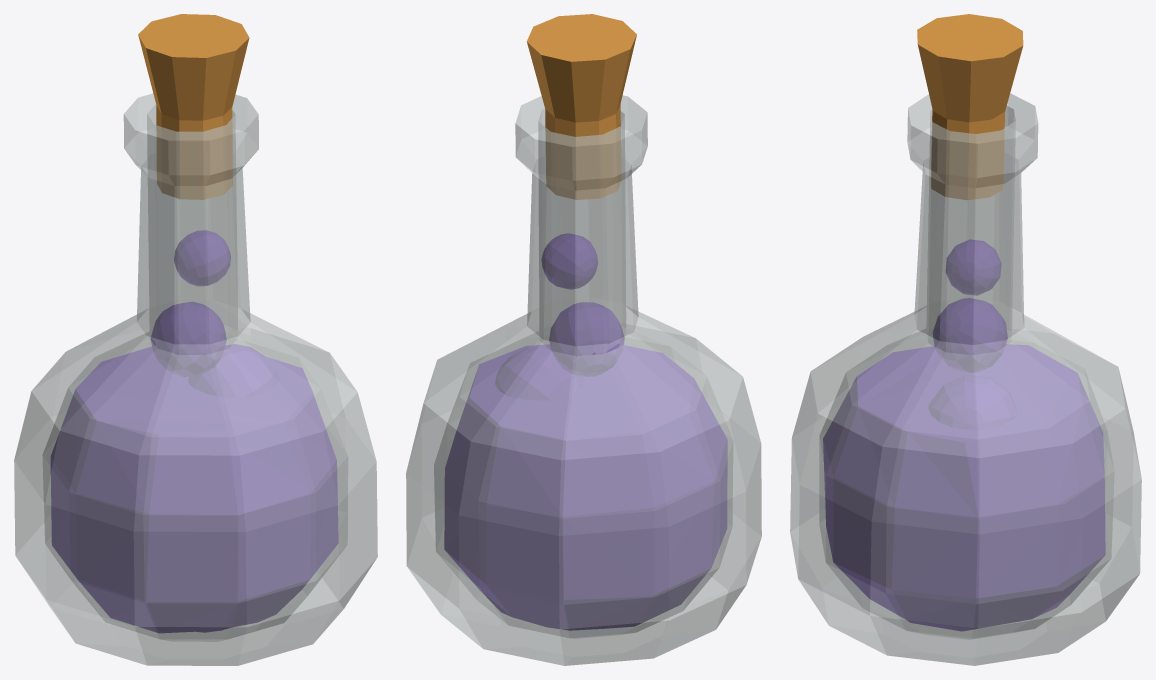
The model's file is potionBottle-optimized.glb.
The picture shows the model from 3 angles, left to right: view 1: azimuth 30°, elevation 25°; view 2: azimuth 150°, elevation 25°; view 3: azimuth 270°, elevation 25°; orthographic projection.
Parts seen in each view (by area): view 1: group2068853349; view 2: group2068853349; view 3: group2068853349.
Boxes of the visible parts, x1,y1,x2,y2 form: group2068853349: (14,14,377,665); group2068853349: (406,14,761,665); group2068853349: (790,14,1141,665).
Bounding box in the file's own units: 0.3543 × 0.6365 × 0.3462.
